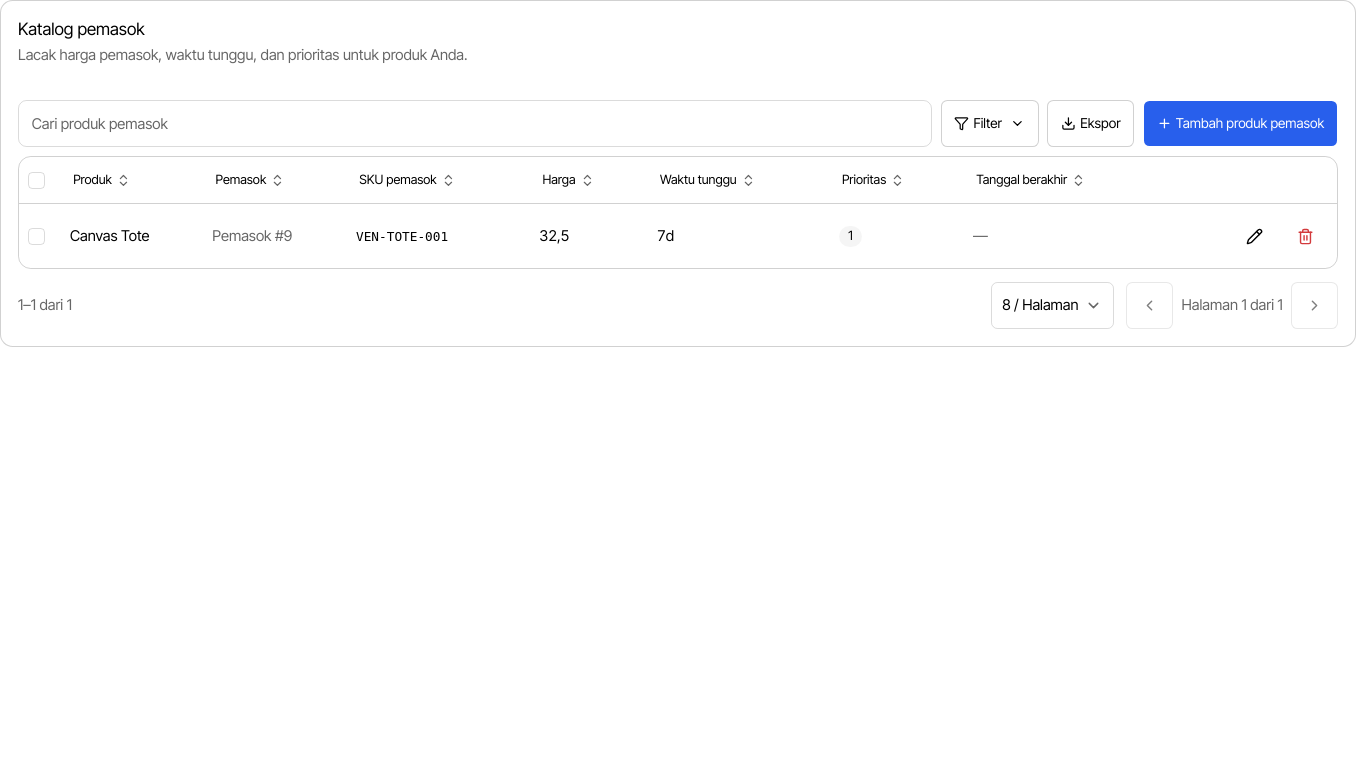
SupplierCatalogSection extra2 › opens the edit dialog with the item locked
The width and height of the screenshot is (1366, 768).
Expected: the text "VEN-TOTE-001" is shown, 356,229 -> 448,244
Click the button named "Ubah produk pemasok": (1254, 236) 1231,213 -> 1278,260
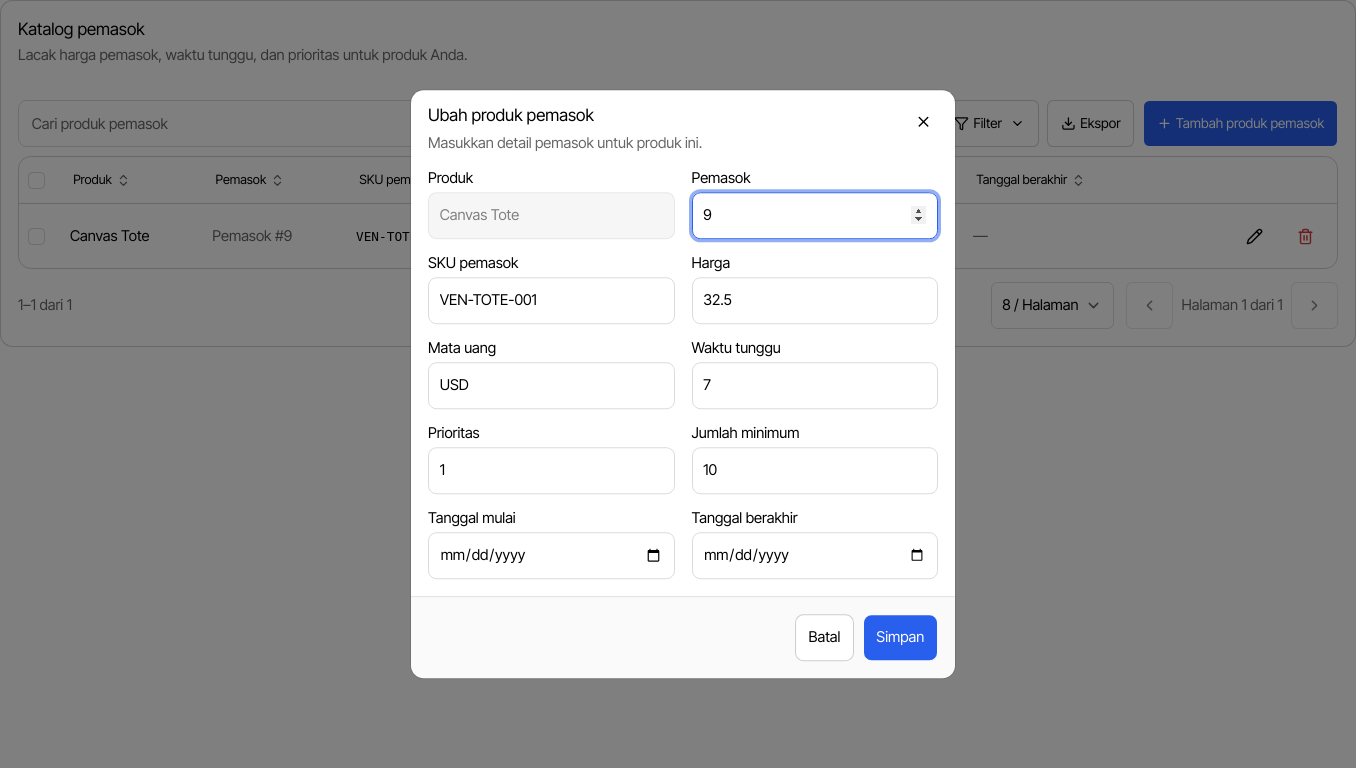
Expected: the heading "Ubah produk pemasok" is shown, 428,105 -> 594,125
Expected: the field labelled "Produk" holds "Canvas Tote", 428,192 -> 674,239
